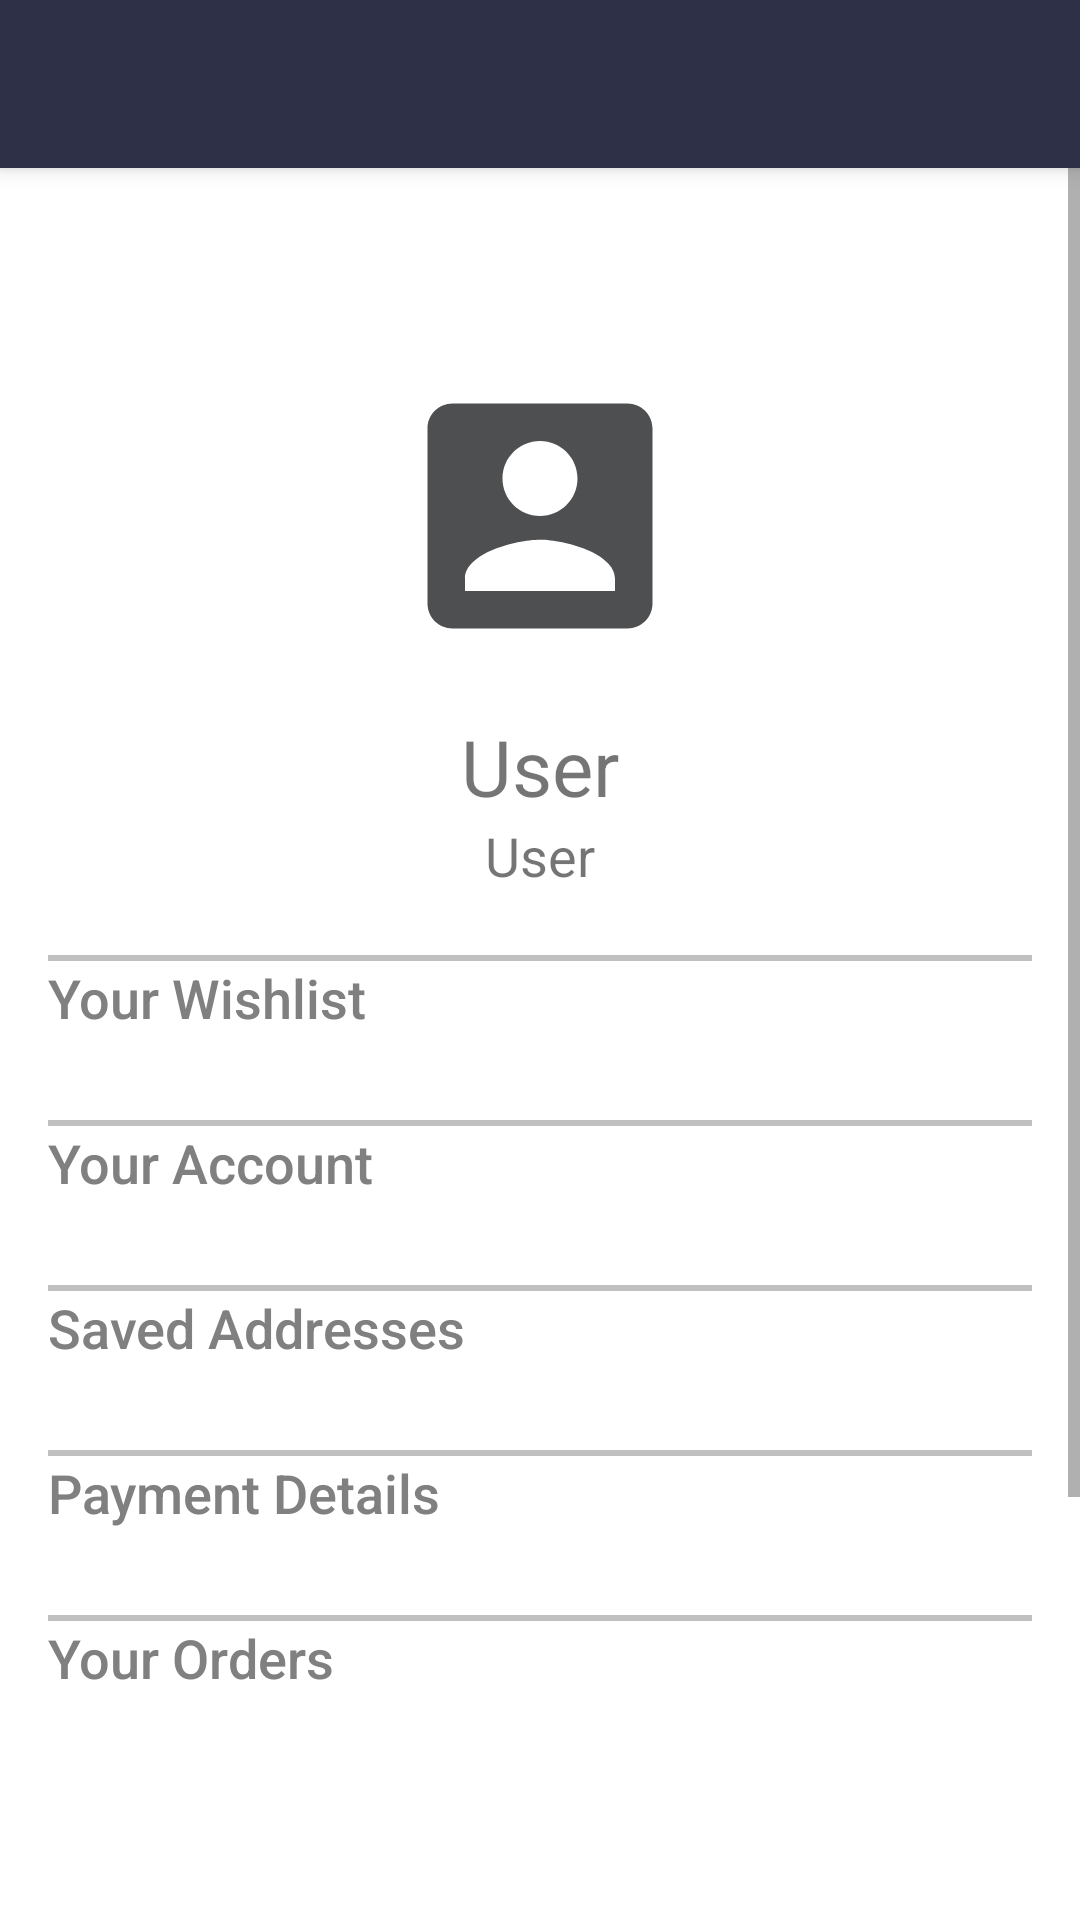

Where icons sit on this 1080*1920 app screen, as (x1, y1, x2, y2):
Profile picture: (427, 403, 653, 629)
